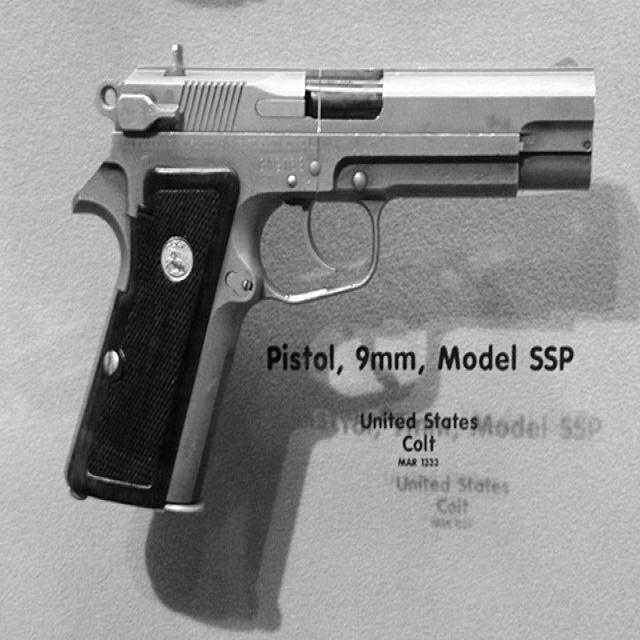HandGun: (65, 47, 598, 517)
